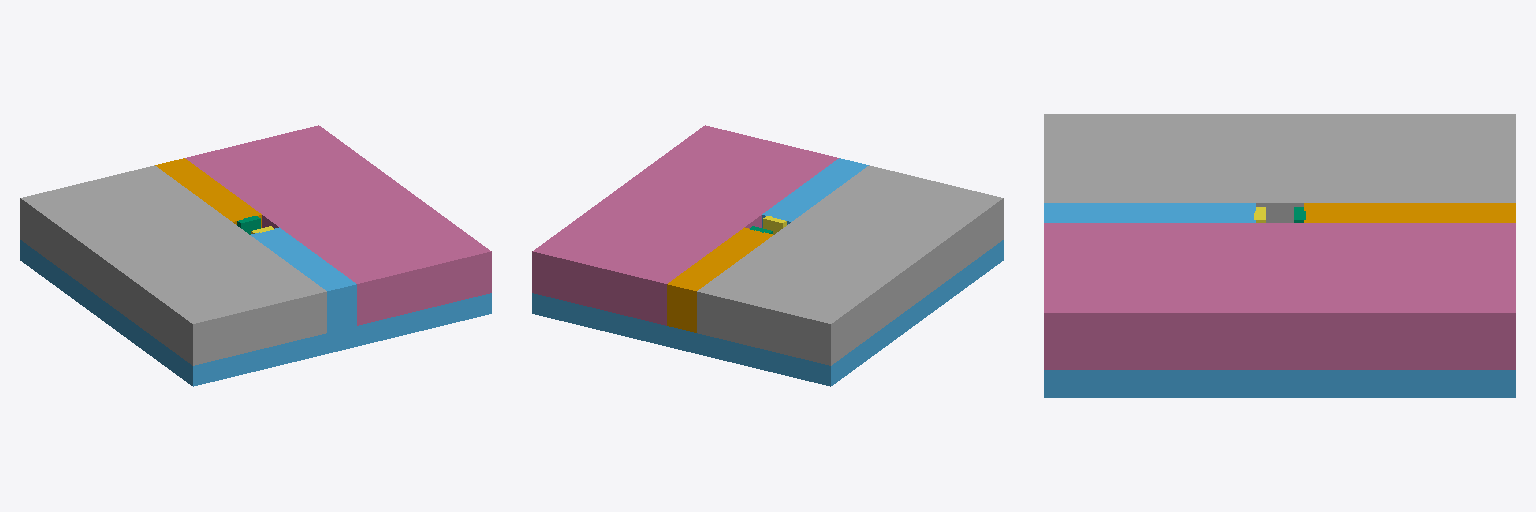
URDF robot description (cube_skeleton):
<?xml version="1.0"?>
<robot name="cube_skeleton">
    <link name="world"/>
    <link name="base_link">
        <inertial>
            <mass value="0.01" />
            <origin xyz="0.000 0 0" rpy="0 0 0" />
            <inertia ixx="1.0" ixy="0" ixz="0" iyy="1.0" iyz="0" izz="1.0" />
        </inertial>
        <visual>
            <origin xyz="0 0 0" rpy="0 0 0" />
            <geometry>
                <mesh filename="./base.obj"/>
            </geometry>
        </visual>
        <collision group="default">
            <origin xyz="0.00 0 0" rpy="0 -0 0" />
            <geometry>
                <mesh filename="./base.obj"/>
            </geometry>
        </collision>
    </link>
    <joint name="base_joint" type="fixed">
        <origin xyz="0 0.0 0.0" rpy="0 0 0" />
        <parent link="world" />
        <child link="base_link" />
    </joint>
    <link name="left">
        <inertial>
            <mass value="0.01" />
            <origin xyz="0.000 0 0" rpy="0 0 0" />
            <inertia ixx="1.0" ixy="0" ixz="0" iyy="1.0" iyz="0" izz="1.0" />
        </inertial>
        <visual>
            <origin xyz="0 0 0" rpy="0 0 0" />
            <geometry>
                <mesh filename="./cube.obj" scale="1. 1.5 1."/>
            </geometry>
        </visual>
        <collision group="default">
            <origin xyz="0.00 0 0" rpy="0 -0 0" />
            <geometry>
                <mesh filename="./cube.obj" scale="1. 1.5 1."/>
            </geometry>
        </collision>
    </link>
    <joint name="left_joint" type="fixed">
        <origin xyz="0 0.0125 0.03" rpy="0 0 0" />
        <parent link="base_link" />
        <child link="left" />
    </joint>
    <link name="right">
        <inertial>
            <mass value="0.01" />
            <origin xyz="0.000 0 0" rpy="0 0 0" />
            <inertia ixx="1.0" ixy="0" ixz="0" iyy="1.0" iyz="0" izz="1.0" />
        </inertial>
        <visual>
            <origin xyz="0 0 0" rpy="0 0 0" />
            <geometry>
                <mesh filename="./cube.obj" scale="1. 1.5 1."/>
            </geometry>
        </visual>
        <collision group="default">
            <origin xyz="0.00 0 0" rpy="0 -0 0" />
            <geometry>
                <mesh filename="./cube.obj" scale="1. 1.5 1."/>
            </geometry>
        </collision>
    </link>
    <joint name="right_joint" type="fixed">
        <origin xyz="0 -0.0125 0.03" rpy="0 0 0" />
        <parent link="base_link" />
        <child link="right" />
    </joint>
    <link name="up">
        <inertial>
            <mass value="0.01" />
            <origin xyz="0.000 0 0" rpy="0 0 0" />
            <inertia ixx="1.0" ixy="0" ixz="0" iyy="1.0" iyz="0" izz="1.0" />
        </inertial>
        <visual>
            <origin xyz="0 0 0" rpy="0 0 0" />
            <geometry>
                <mesh filename="./cube1.obj" scale="1.5 1. 1."/>
            </geometry>
        </visual>
        <collision group="default">
            <origin xyz="0.00 0 0" rpy="0 -0 0" />
            <geometry>
                <mesh filename="./cube1.obj" scale="1.5 1. 1."/>
            </geometry>
        </collision>
    </link>
    <joint name="up_joint" type="fixed">
        <origin xyz="0.0125 0.0 0.03" rpy="0 0 0" />
        <parent link="base_link" />
        <child link="up" />
    </joint>
    <link name="down">
        <inertial>
            <mass value="0.01" />
            <origin xyz="0.000 0 0" rpy="0 0 0" />
            <inertia ixx="1.0" ixy="0" ixz="0" iyy="1.0" iyz="0" izz="1.0" />
        </inertial>
        <visual>
            <origin xyz="0 0 0" rpy="0 0 0" />
            <geometry>
                <mesh filename="./cube1.obj" scale="1.5 1. 1."/>
            </geometry>
        </visual>
        <collision group="default">
            <origin xyz="0.00 0 0" rpy="0 -0 0" />
            <geometry>
                <mesh filename="./cube1.obj" scale="1.5 1. 1."/>
            </geometry>
        </collision>
    </link>
    <joint name="down_joint" type="fixed">
        <origin xyz="-0.0125 0.0 0.03" rpy="0 0 0" />
        <parent link="base_link" />
        <child link="down" />
    </joint>
     <link name="base_up">
        <inertial>
            <mass value="0.01" />
            <origin xyz="0.000 0 0" rpy="0 0 0" />
            <inertia ixx="1.0" ixy="0" ixz="0" iyy="1.0" iyz="0" izz="1.0" />
        </inertial>
        <visual>
            <origin xyz="0 0 0" rpy="0 0 0" />
            <geometry>
                <mesh filename="./cube2.obj"/>
            </geometry>
        </visual>
        <collision group="default">
            <origin xyz="0.00 0 0" rpy="0 -0 0" />
            <geometry>
                <mesh filename="./cube2.obj"/>
            </geometry>
        </collision>
    </link>
    <joint name="base_up_joint" type="fixed">
        <origin xyz="0.0825 0.0 0.03" rpy="0 0 0" />
        <parent link="base_link" />
        <child link="base_up" />
    </joint>
    <link name="base_down">
        <inertial>
            <mass value="0.01" />
            <origin xyz="0.000 0 0" rpy="0 0 0" />
            <inertia ixx="1.0" ixy="0" ixz="0" iyy="1.0" iyz="0" izz="1.0" />
        </inertial>
        <visual>
            <origin xyz="0 0 0" rpy="0 0 0" />
            <geometry>
                <mesh filename="./cube2.obj"/>
            </geometry>
        </visual>
        <collision group="default">
            <origin xyz="0.00 0 0" rpy="0 -0 0" />
            <geometry>
                <mesh filename="./cube2.obj"/>
            </geometry>
        </collision>
    </link>
    <joint name="base_down_joint" type="fixed">
        <origin xyz="-0.0825 0.0 0.03" rpy="0 0 0" />
        <parent link="base_link" />
        <child link="base_down" />
    </joint>
    <link name="base_left">
        <inertial>
            <mass value="0.01" />
            <origin xyz="0.000 0 0" rpy="0 0 0" />
            <inertia ixx="1.0" ixy="0" ixz="0" iyy="1.0" iyz="0" izz="1.0" />
        </inertial>
        <visual>
            <origin xyz="0 0 0" rpy="0 0 0" />
            <geometry>
                <mesh filename="./cube3.obj"/>
            </geometry>
        </visual>
        <collision group="default">
            <origin xyz="0.00 0 0" rpy="0 -0 0" />
            <geometry>
                <mesh filename="./cube3.obj"/>
            </geometry>
        </collision>
    </link>
    <joint name="base_left_joint" type="fixed">
        <origin xyz="0 0.0825 0.03" rpy="0 0 0" />
        <parent link="base_link" />
        <child link="base_left" />
    </joint>
    <link name="base_right">
        <inertial>
            <mass value="0.01" />
            <origin xyz="0.000 0 0" rpy="0 0 0" />
            <inertia ixx="1.0" ixy="0" ixz="0" iyy="1.0" iyz="0" izz="1.0" />
        </inertial>
        <visual>
            <origin xyz="0 0 0" rpy="0 0 0" />
            <geometry>
                <mesh filename="./cube3.obj"/>
            </geometry>
        </visual>
        <collision group="default">
            <origin xyz="0.00 0 0" rpy="0 -0 0" />
            <geometry>
                <mesh filename="./cube3.obj"/>
            </geometry>
        </collision>
    </link>
    <joint name="base_right_joint" type="fixed">
        <origin xyz="0 -0.0825 0.03" rpy="0 0 0" />
        <parent link="base_link" />
        <child link="base_right" />
    </joint>
</robot>

--- Facts derived from the render (not from the file) ---
Views: 3 orthographic renders of the robot side by side, from view 1: azimuth 30°, elevation 25°; view 2: azimuth 150°, elevation 25°; view 3: azimuth 270°, elevation 25°.
Robot: cube_skeleton — 10 links, 9 joints (9 fixed); root link world; default pose: every joint at zero.
Links seen in each view (by area): view 1: base_down, base_up, base_link, base_right, base_left; view 2: base_down, base_up, base_link, base_left, base_right; view 3: base_up, base_down, base_link, base_right, base_left.
Boxes of the visible links, x1=… form: base_down: x1=20, y1=165, x2=326, y2=365; base_up: x1=185, y1=125, x2=491, y2=325; base_link: x1=20, y1=240, x2=491, y2=386; base_right: x1=251, y1=227, x2=356, y2=332; base_left: x1=155, y1=158, x2=261, y2=227; base_down: x1=697, y1=165, x2=1003, y2=365; base_up: x1=532, y1=125, x2=838, y2=325; base_link: x1=532, y1=240, x2=1003, y2=386; base_left: x1=667, y1=227, x2=772, y2=332; base_right: x1=762, y1=158, x2=868, y2=227; base_up: x1=1044, y1=223, x2=1515, y2=369; base_down: x1=1044, y1=114, x2=1515, y2=222; base_link: x1=1044, y1=370, x2=1515, y2=397; base_right: x1=1044, y1=203, x2=1255, y2=222; base_left: x1=1304, y1=203, x2=1515, y2=222.
Bounding box of the posed robot: 0.3 × 0.3 × 0.06 m (x, y, z).
Meshes: 5 distinct files referenced, 7 mesh visuals loaded (4 OBJ); not drawn: 2 (reference not matched to a file when rendering).
